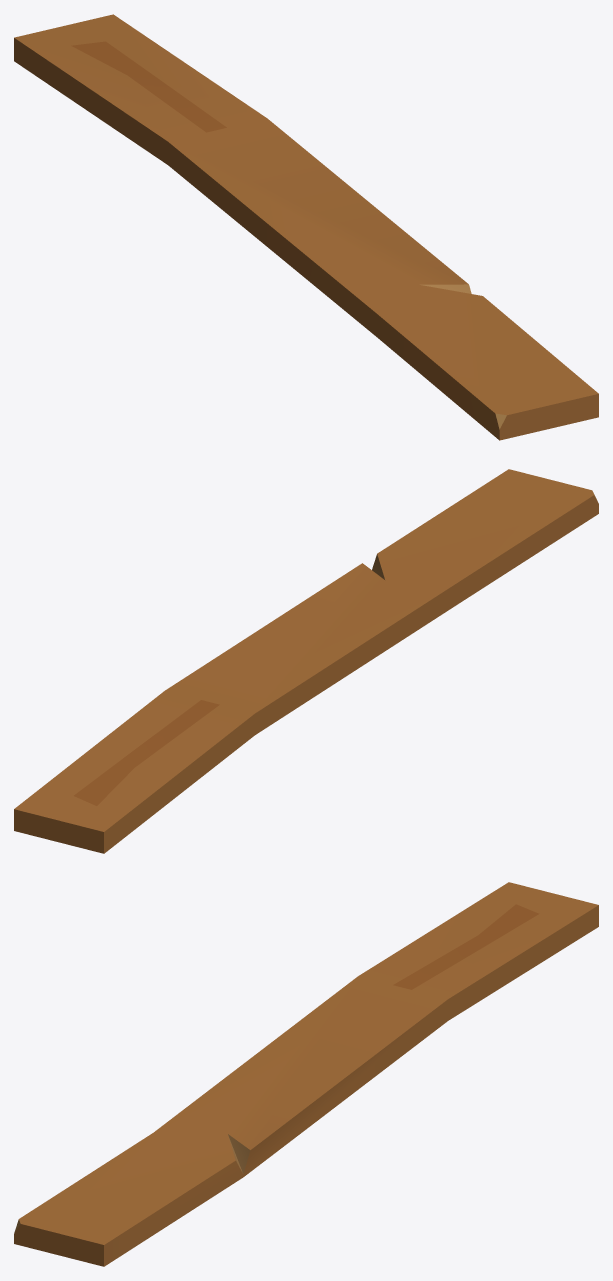
File: Plank_1_1.fbx
3 renders of one model, top to bottom at view 1: azimuth 30°, elevation 25°; view 2: azimuth 150°, elevation 25°; view 3: azimuth 330°, elevation 25°, orthographic. The views are drawn at different scales.
Parts seen in each view (by area): view 1: Plank_1_1; view 2: Plank_1_1; view 3: Plank_1_1.
Boxes of the visible parts, <box> form: Plank_1_1: <box>14,14,598,440</box>; Plank_1_1: <box>14,469,598,853</box>; Plank_1_1: <box>14,882,598,1266</box>.
Bounding box in the file's own units: 41.66 × 11.88 × 300.
